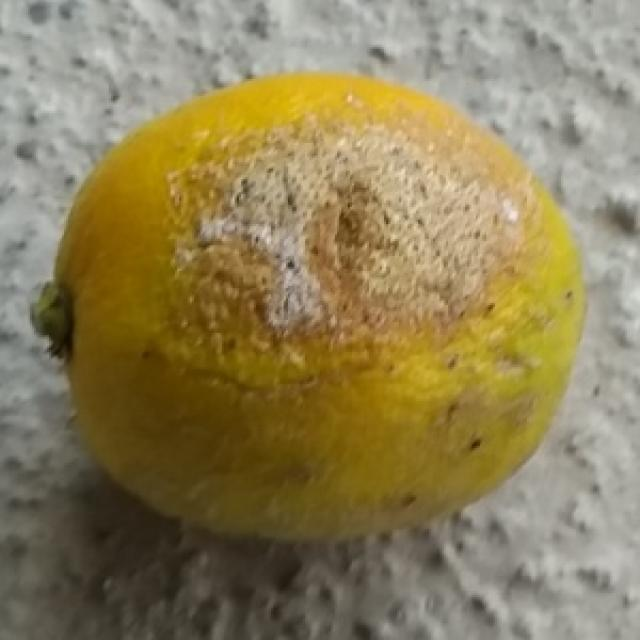overripe: (34, 62, 597, 548)
